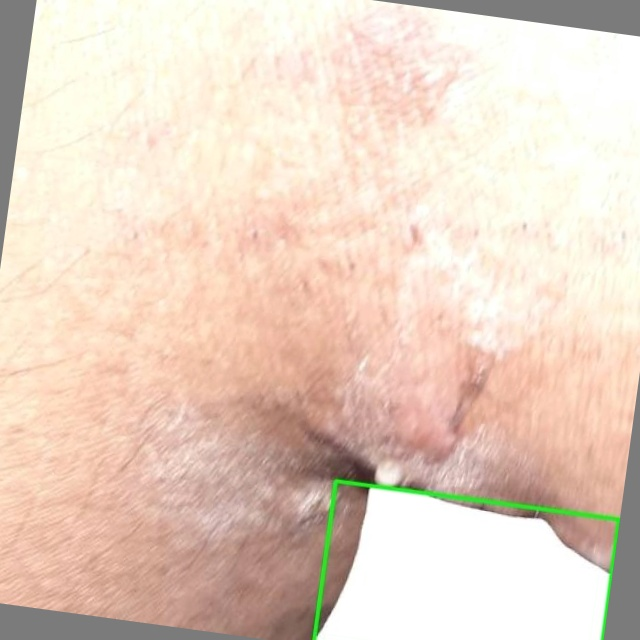Contact Dermatitis: (314, 480, 619, 639)
